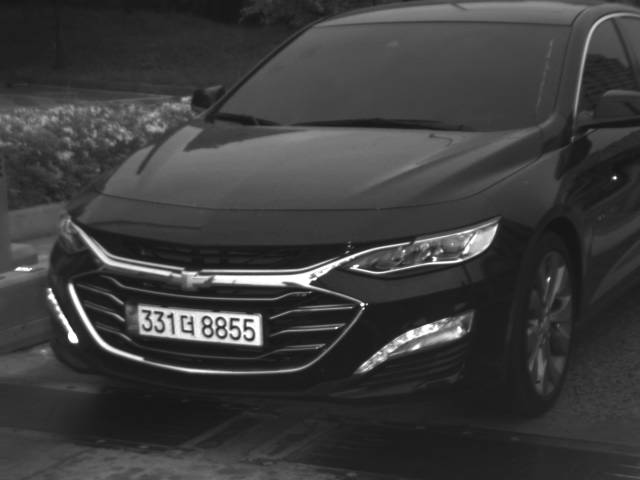car: (43, 1, 639, 420)
plate: (123, 302, 265, 348)
